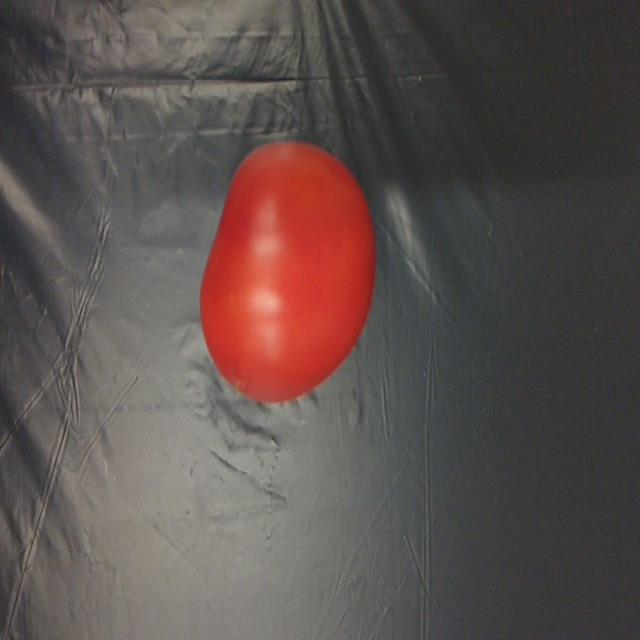kirmizi: (170, 130, 400, 413)
